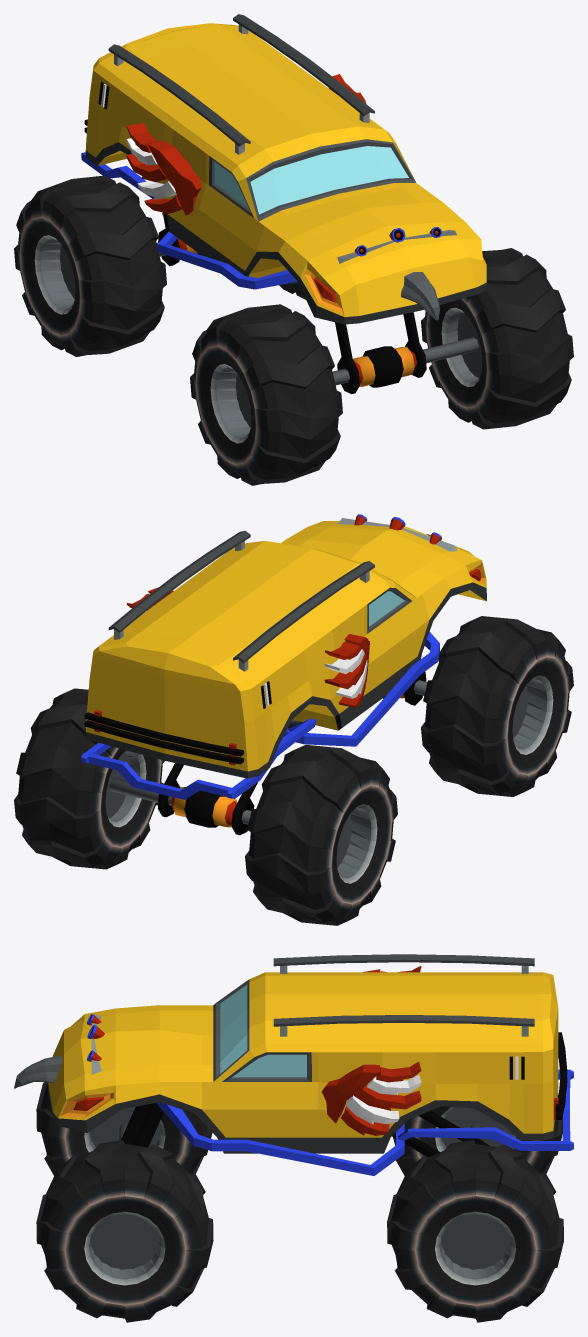
The model's file is Eagle.fbx.
3 views of the same model, one above another, from view 1: azimuth 30°, elevation 25°; view 2: azimuth 150°, elevation 25°; view 3: azimuth 270°, elevation 25° (orthographic).
Visible parts, largest first — view 1: Monster_Truck_Body, Wheel_FR, Wheel_RR, Wheel_FL, Monster_Truck_Livery, Axel Front; view 2: Monster_Truck_Body, Wheel_RR, Wheel_FR, Wheel_RL, Monster_Truck_Livery, Axel Back; view 3: Monster_Truck_Body, Wheel_FL, Wheel_RL, Monster_Truck_Livery, Wheel_FR, Wheel_RR, Axel Front, Axel Back.
Boxes of the visible parts, x1=… form: Monster_Truck_Body: x1=81, y1=23, x2=486, y2=324; Wheel_FR: x1=190, y1=304, x2=342, y2=485; Wheel_RR: x1=14, y1=175, x2=166, y2=356; Wheel_FL: x1=421, y1=248, x2=573, y2=429; Monster_Truck_Livery: x1=84, y1=14, x2=457, y2=320; Axel Front: x1=332, y1=312, x2=478, y2=394; Monster_Truck_Body: x1=81, y1=521, x2=486, y2=799; Wheel_RR: x1=245, y1=745, x2=397, y2=925; Wheel_FR: x1=421, y1=616, x2=573, y2=796; Wheel_RL: x1=14, y1=688, x2=164, y2=869; Monster_Truck_Livery: x1=84, y1=514, x2=457, y2=765; Axel Back: x1=109, y1=763, x2=257, y2=835; Monster_Truck_Body: x1=48, y1=972, x2=573, y2=1175; Wheel_FL: x1=36, y1=1140, x2=213, y2=1322; Wheel_RL: x1=387, y1=1140, x2=563, y2=1322; Monster_Truck_Livery: x1=14, y1=954, x2=567, y2=1135; Wheel_FR: x1=36, y1=1082, x2=212, y2=1175; Wheel_RR: x1=393, y1=1106, x2=562, y2=1175; Axel Front: x1=118, y1=1102, x2=163, y2=1147; Axel Back: x1=392, y1=1110, x2=489, y2=1157.
Size of the model in its own units: 485 by 404 by 759.
